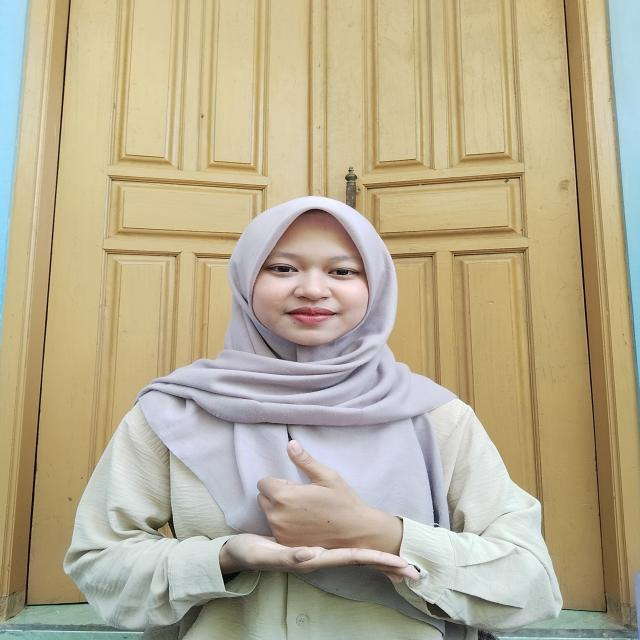cantik: (205, 419, 428, 596)
